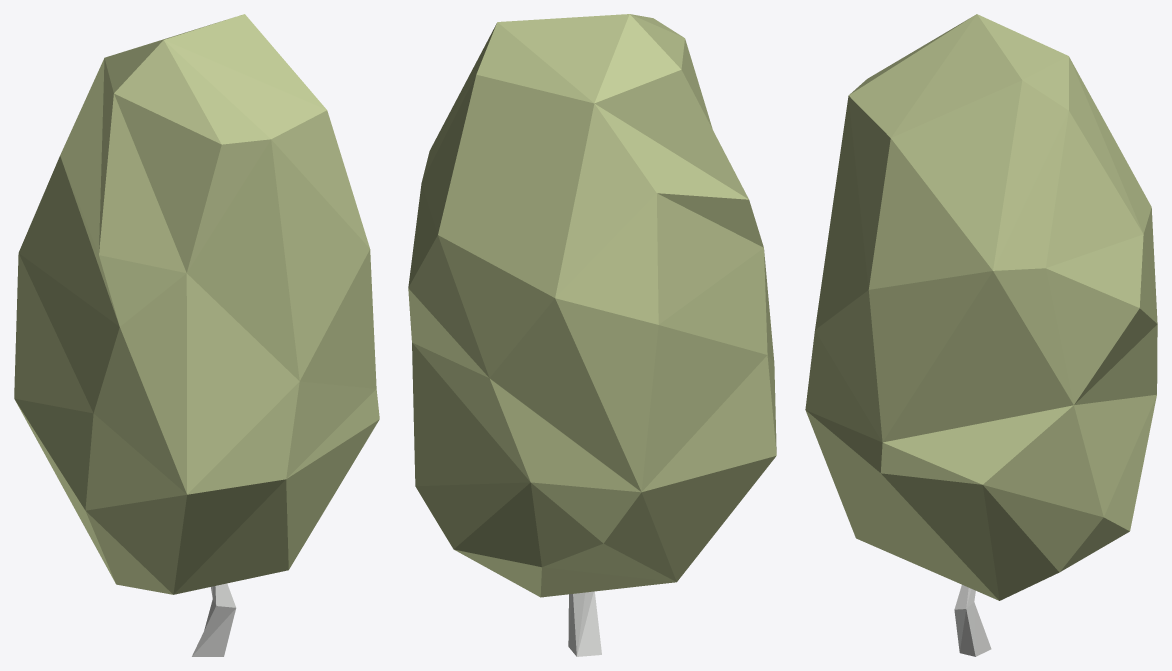
Rendered from PopulusTremuloides.glb.
3 renders of one model, left to right at view 1: azimuth 30°, elevation 25°; view 2: azimuth 150°, elevation 25°; view 3: azimuth 270°, elevation 25°, orthographic. The views are drawn at different scales.
Parts seen in each view (by area): view 1: Crown, Trunk; view 2: Crown, Trunk; view 3: Crown, Trunk.
Part boxes in pixels (x1,y1,x2,y2): Crown: [14, 14, 379, 594]; Trunk: [192, 583, 236, 656]; Crown: [408, 14, 776, 597]; Trunk: [568, 591, 601, 656]; Crown: [805, 14, 1157, 600]; Trunk: [954, 585, 991, 656].
Size of the model in its own units: 9.3 by 18.4 by 9.56.
